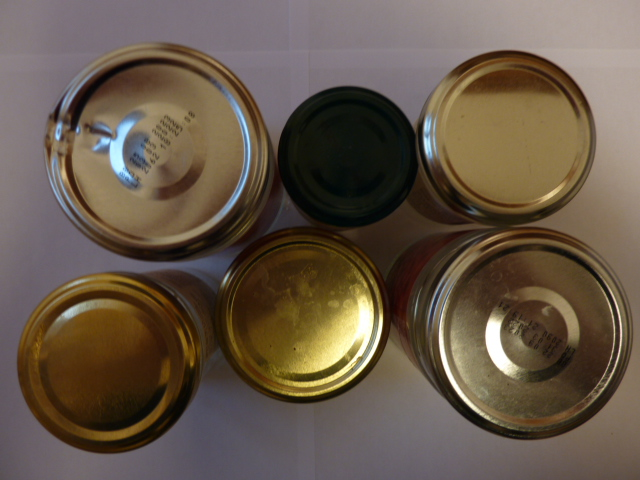damaged: (39, 43, 267, 258)
intact: (16, 273, 197, 453), (423, 53, 595, 221), (223, 238, 388, 402), (275, 86, 420, 229)
